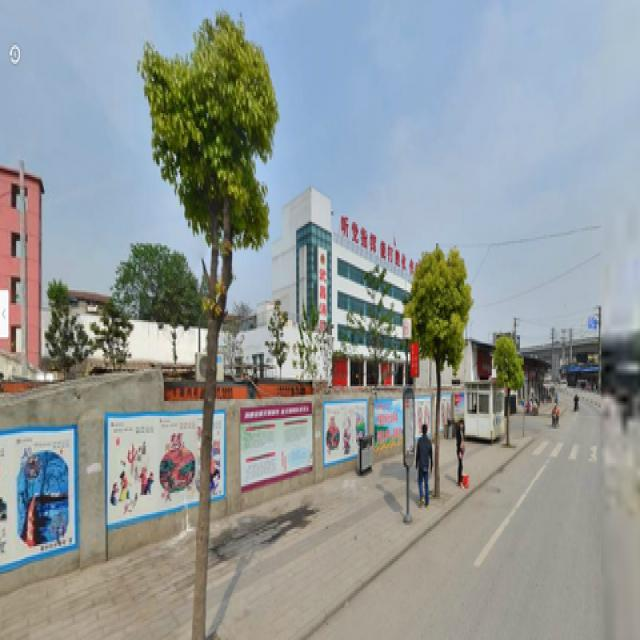cinn: (136, 15, 292, 634)
